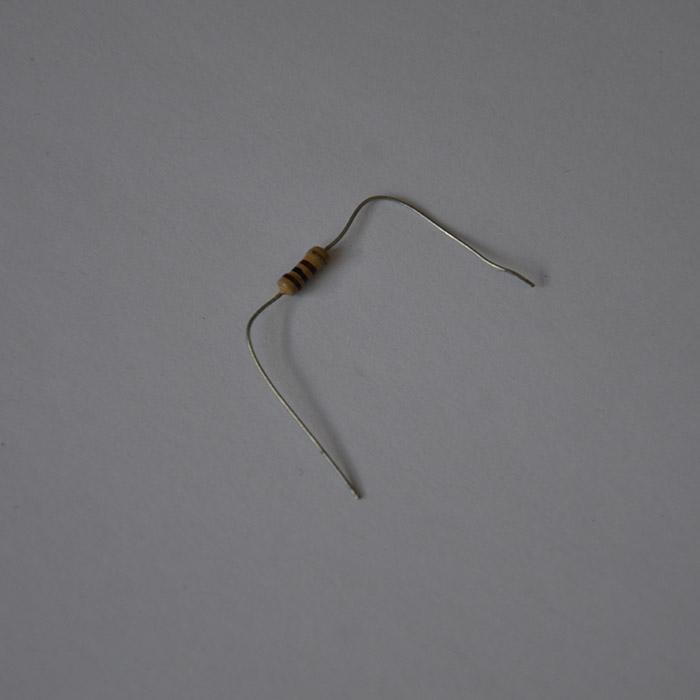resistor: (276, 245, 329, 297)
